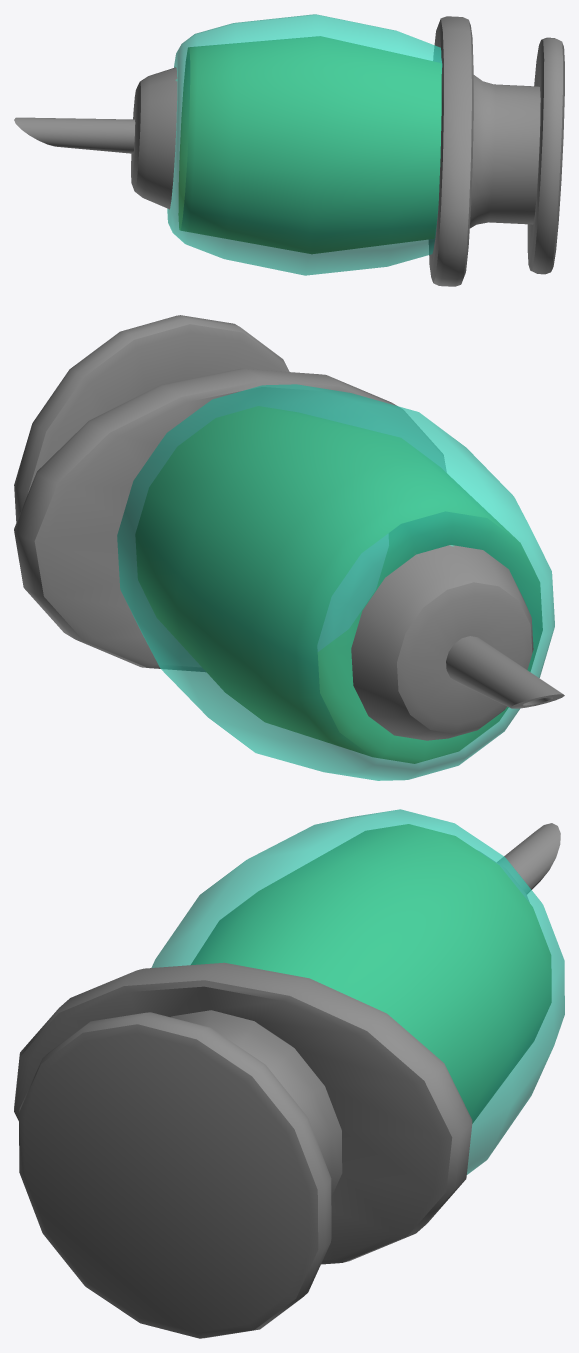
File: Syringe.glb
3 views of the same model, one above another, from view 1: azimuth 30°, elevation 25°; view 2: azimuth 150°, elevation 25°; view 3: azimuth 270°, elevation 25° (orthographic). The views are drawn at different scales.
Parts seen in each view (by area): view 1: Cylinder.003, Cylinder.011; view 2: Cylinder.003, Cylinder.011; view 3: Cylinder.011, Cylinder.003.
Boxes of the visible parts, x1,y1,x2,y2 form: Cylinder.003: (14,14,442,275); Cylinder.011: (429,16,564,286); Cylinder.003: (117,384,564,780); Cylinder.011: (14,315,446,671); Cylinder.011: (14,962,472,1338); Cylinder.003: (151,809,564,1174).
Size of the model in its own units: 1.64 by 0.8119 by 1.15.
3 materials, 3 textured.
